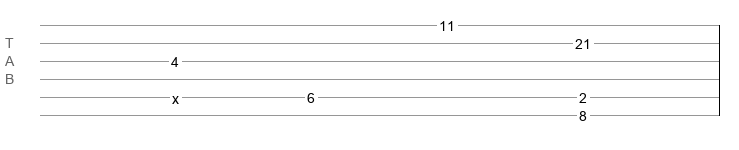11: (439, 18, 455, 28)
2: (579, 90, 587, 100)
21: (575, 36, 591, 46)
4: (171, 54, 179, 64)
6: (307, 90, 315, 100)
8: (579, 108, 587, 118)
x: (172, 91, 179, 99)
